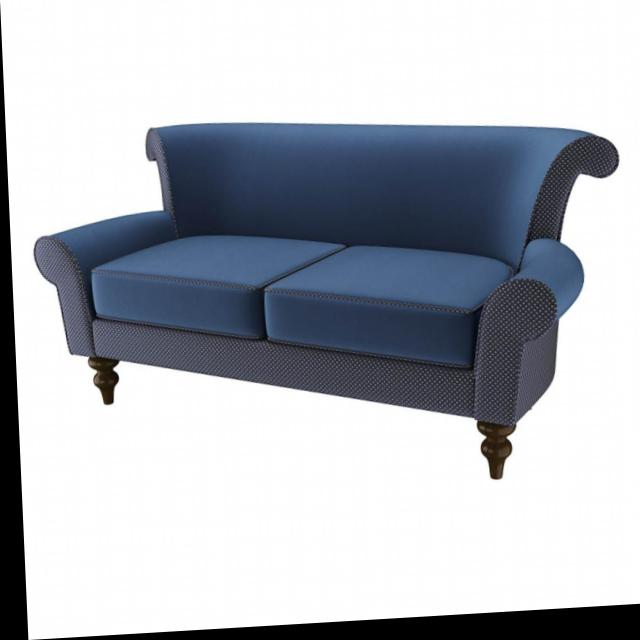Sofa: (27, 104, 629, 513)
